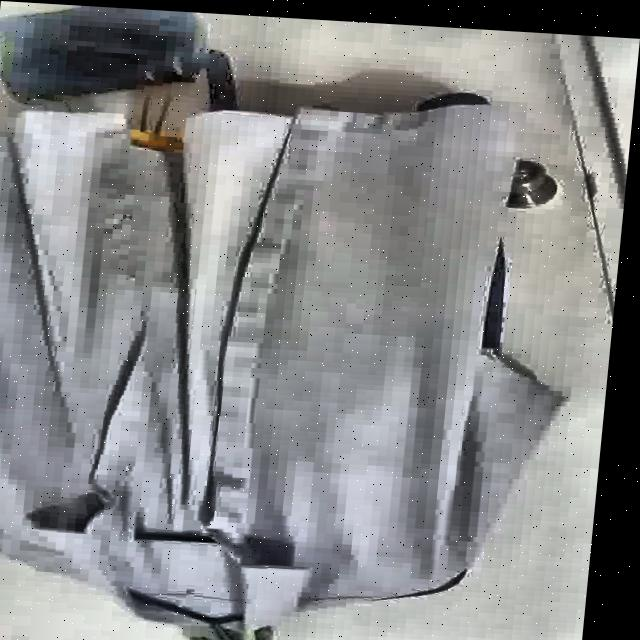clothes: (0, 69, 582, 640)
